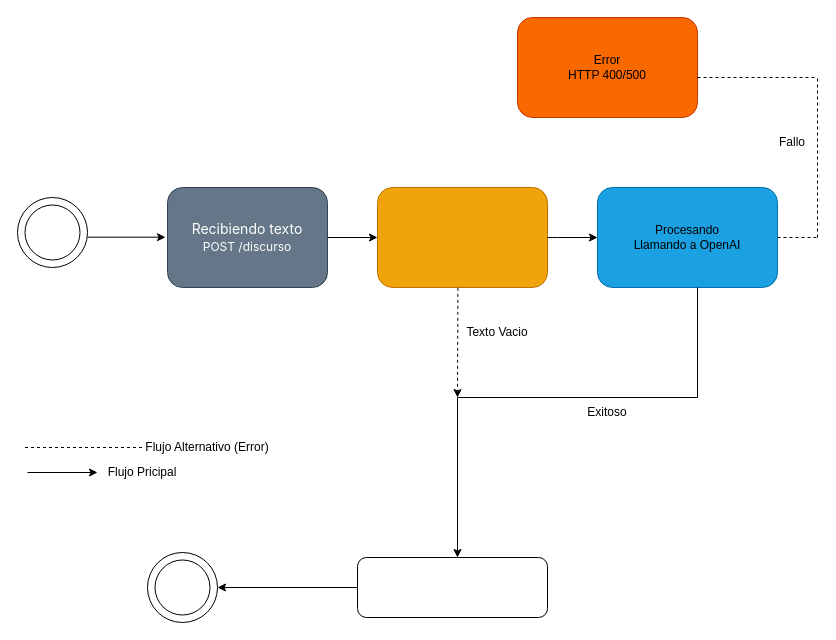
The diagram is 836 pixels wide and 640 high, and some of its shapes have lost their labels. Here are the shapes that lost their labels. From the top down, the box of each, then its label:
(376, 186, 548, 288): Validando Campo Texto
(356, 556, 548, 618): Completado Devuelve Palabras Claves
